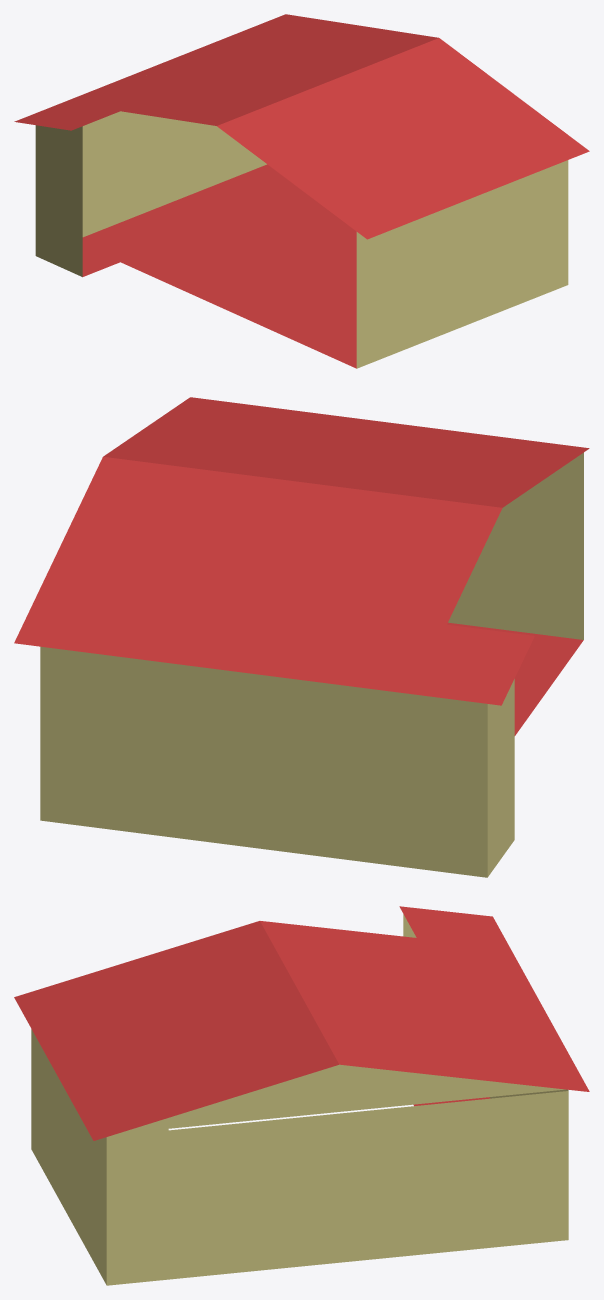
3 views of the same model, one above another, from view 1: azimuth 30°, elevation 25°; view 2: azimuth 150°, elevation 25°; view 3: azimuth 270°, elevation 25° (orthographic). The views are drawn at different scales.
Bounding box in the file's own units: 30.09 × 32.6 × 12.85.
